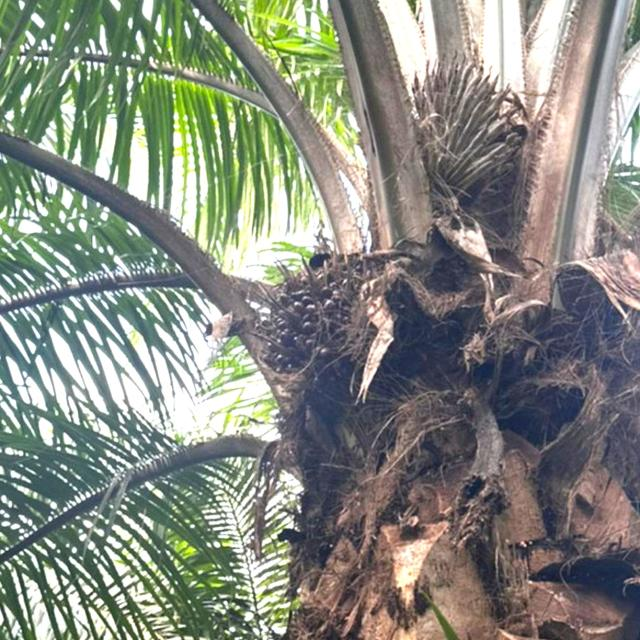ripe: (238, 245, 369, 412)
